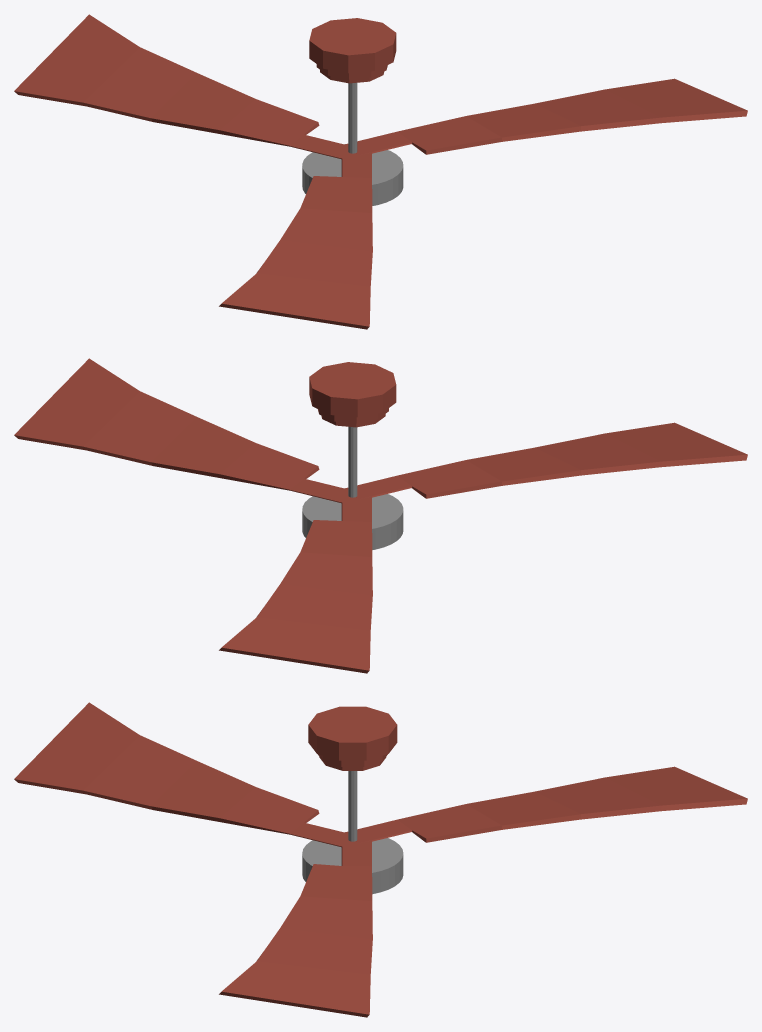
File: PERKELE.fbx
3 views of the same model, one above another, from view 1: azimuth 30°, elevation 25°; view 2: azimuth 150°, elevation 25°; view 3: azimuth 270°, elevation 25° (orthographic).
Visible parts, largest first — view 1: Plane.002, Cylinder.002, Cylinder, Cylinder.001; view 2: Plane.002, Cylinder.002, Cylinder, Cylinder.001; view 3: Plane.002, Cylinder.002, Cylinder, Cylinder.001.
Part boxes in pixels (x1,y1,x2,y2): Plane.002: [14, 14, 747, 329]; Cylinder.002: [309, 18, 396, 83]; Cylinder: [302, 144, 403, 205]; Cylinder.001: [348, 82, 357, 153]; Plane.002: [14, 358, 747, 673]; Cylinder.002: [309, 362, 396, 427]; Cylinder: [302, 494, 403, 549]; Cylinder.001: [348, 426, 357, 497]; Plane.002: [14, 702, 747, 1017]; Cylinder.002: [308, 706, 397, 770]; Cylinder: [302, 832, 403, 894]; Cylinder.001: [348, 771, 357, 841].
Size of the model in its own units: 1544 by 409 by 1651.
